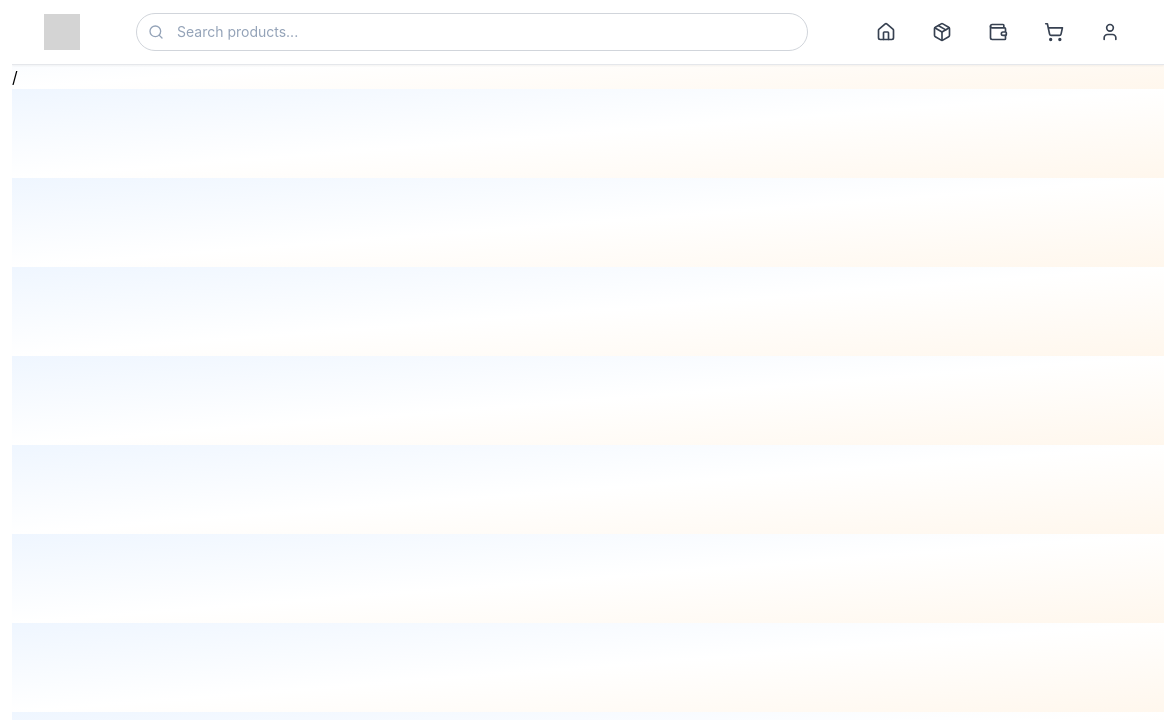
Test: Navbar cart badge › opens recent searches on desktop focus and routes submitted searches to the search page
Focus the field with placeholder "Search products..." at (472, 32), box [136,13,808,51]
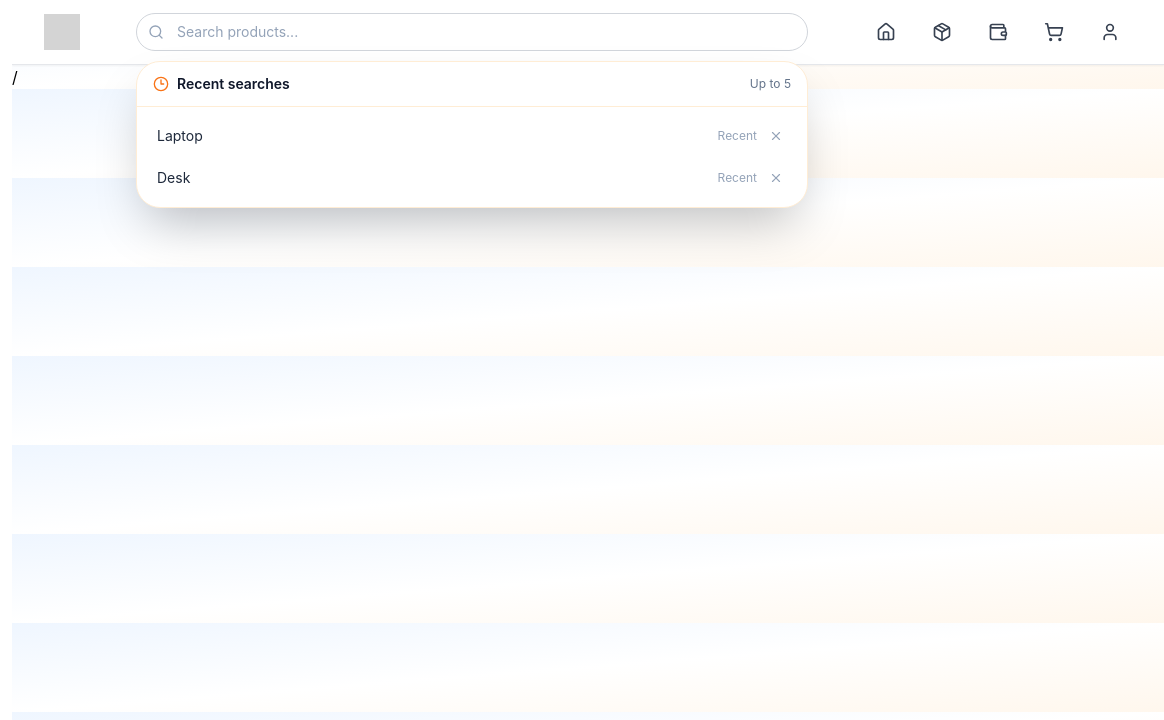
Expected: the text "Recent searches" is shown, [177,74,290,94]
Expected: the text "Laptop" is shown, [157,127,203,144]
Expected: the text "Desk" is shown, [157,169,190,186]
Type "Headphones" into the field with placeholder "Search products..." at (472, 32), box [136,13,808,51]
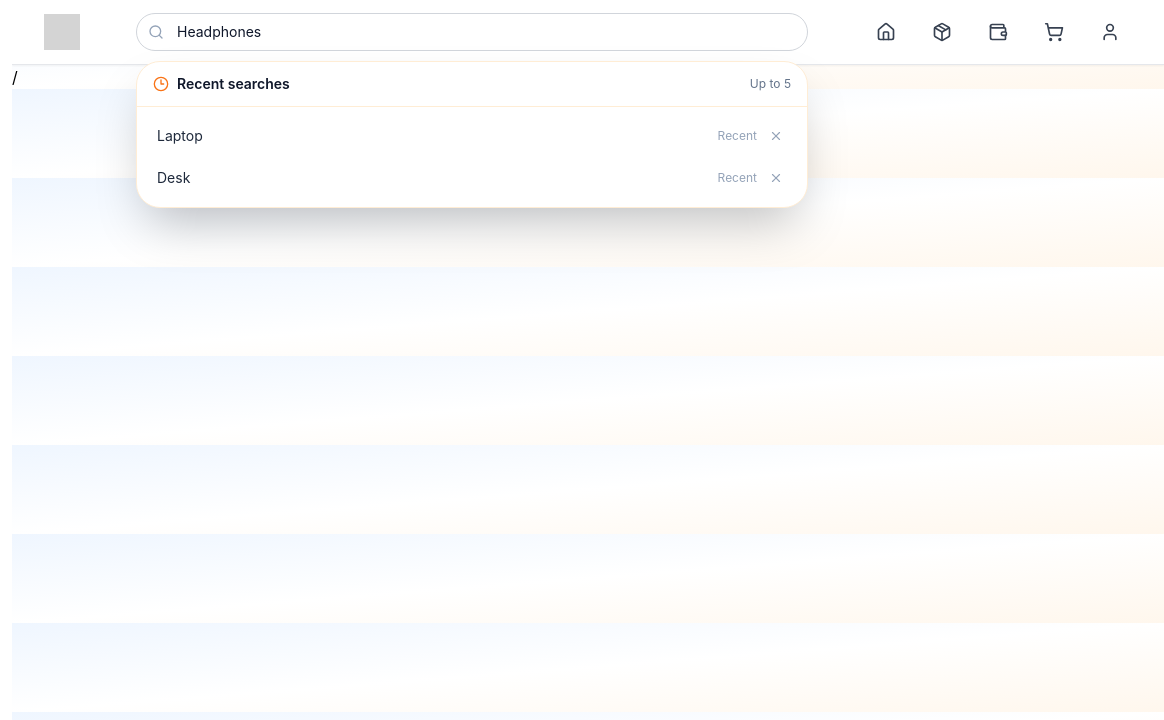
Submit the form with placeholder "Search products...", box [136,13,808,51]
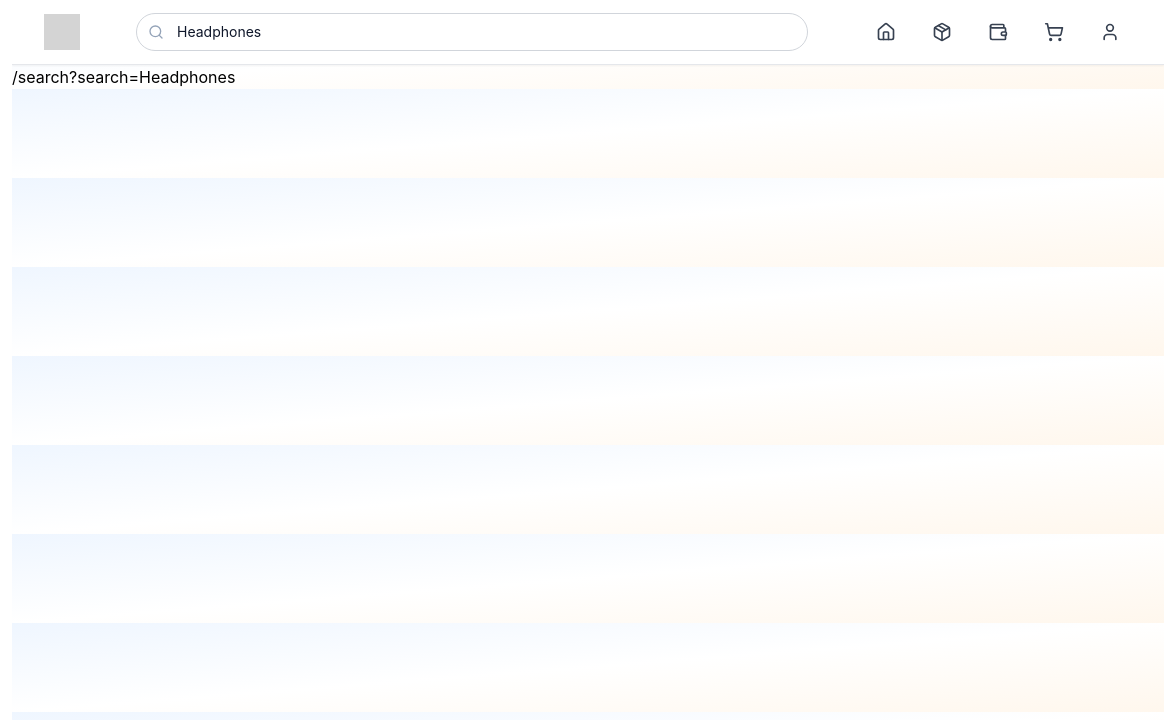
Expected: the text with test id "location-display" reads "/search?search=Headphones", [12,67,235,87]
